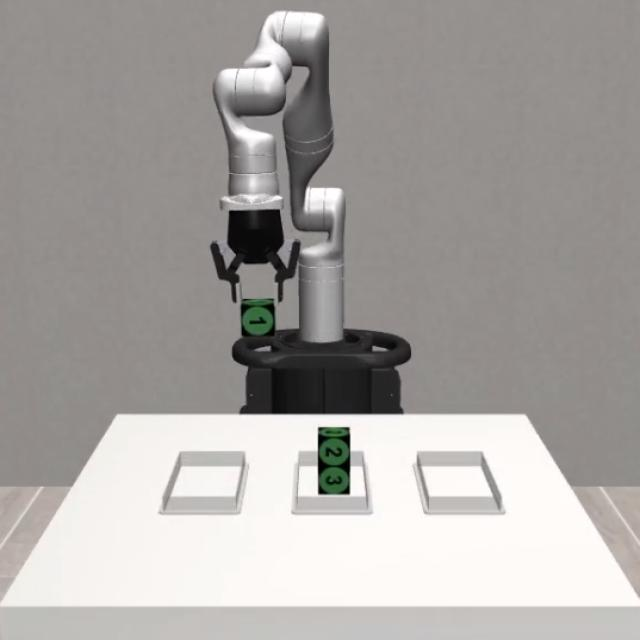cube1: (237, 296, 276, 338)
cube2: (320, 426, 350, 464)
cube3: (318, 461, 352, 494)
